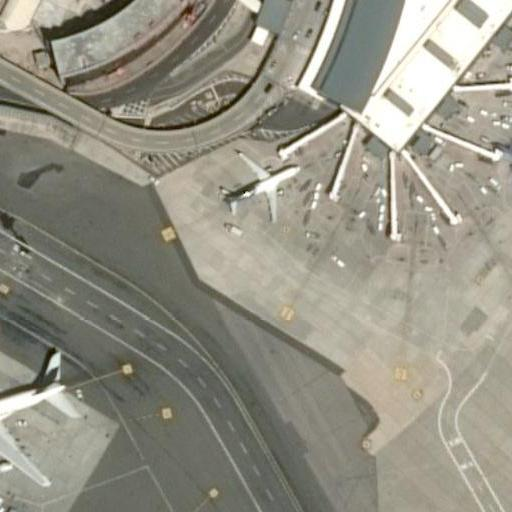Aircraft: (0, 303, 84, 488), (222, 139, 303, 223), (487, 125, 512, 193), (498, 41, 512, 99)
